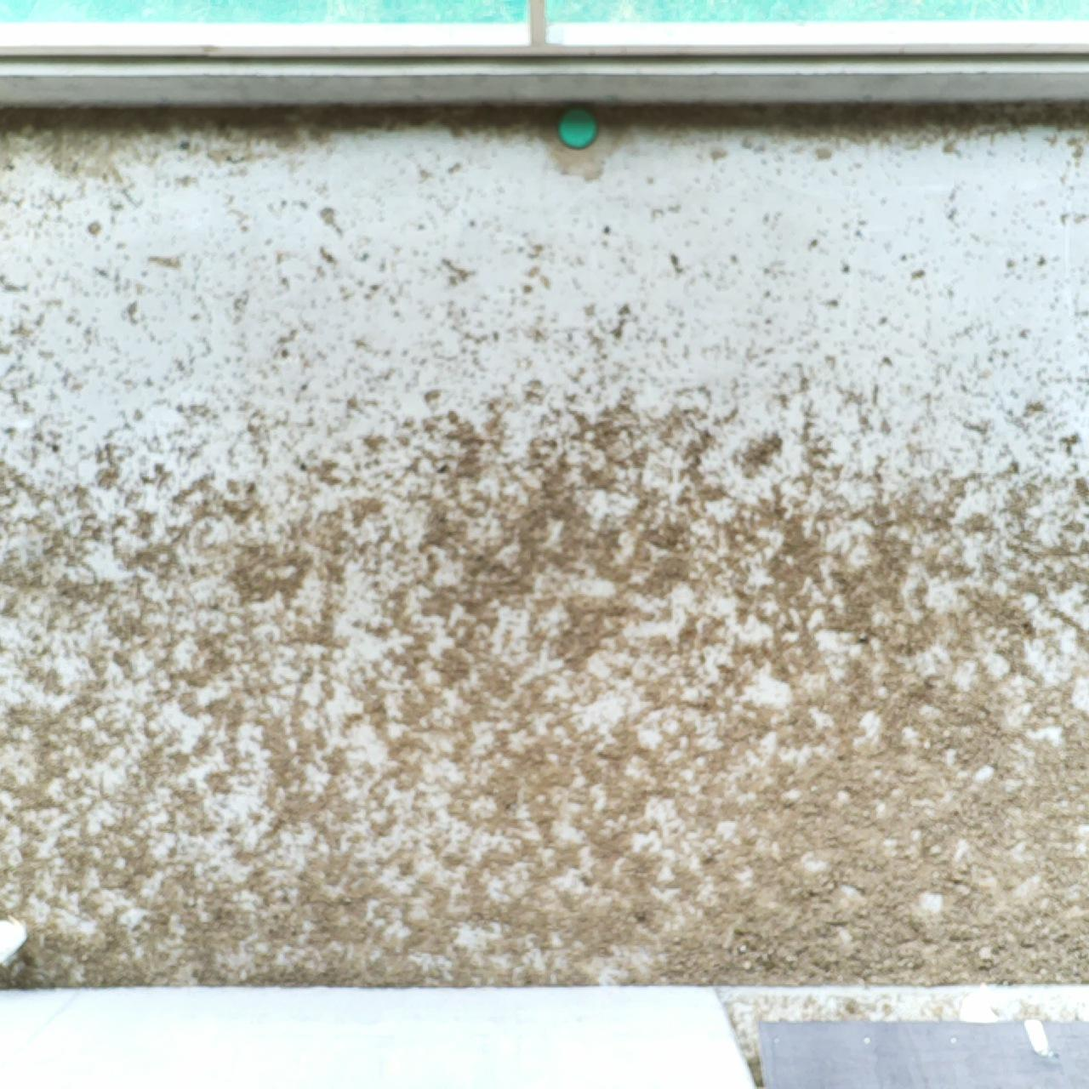chicken: (0, 904, 27, 983)
